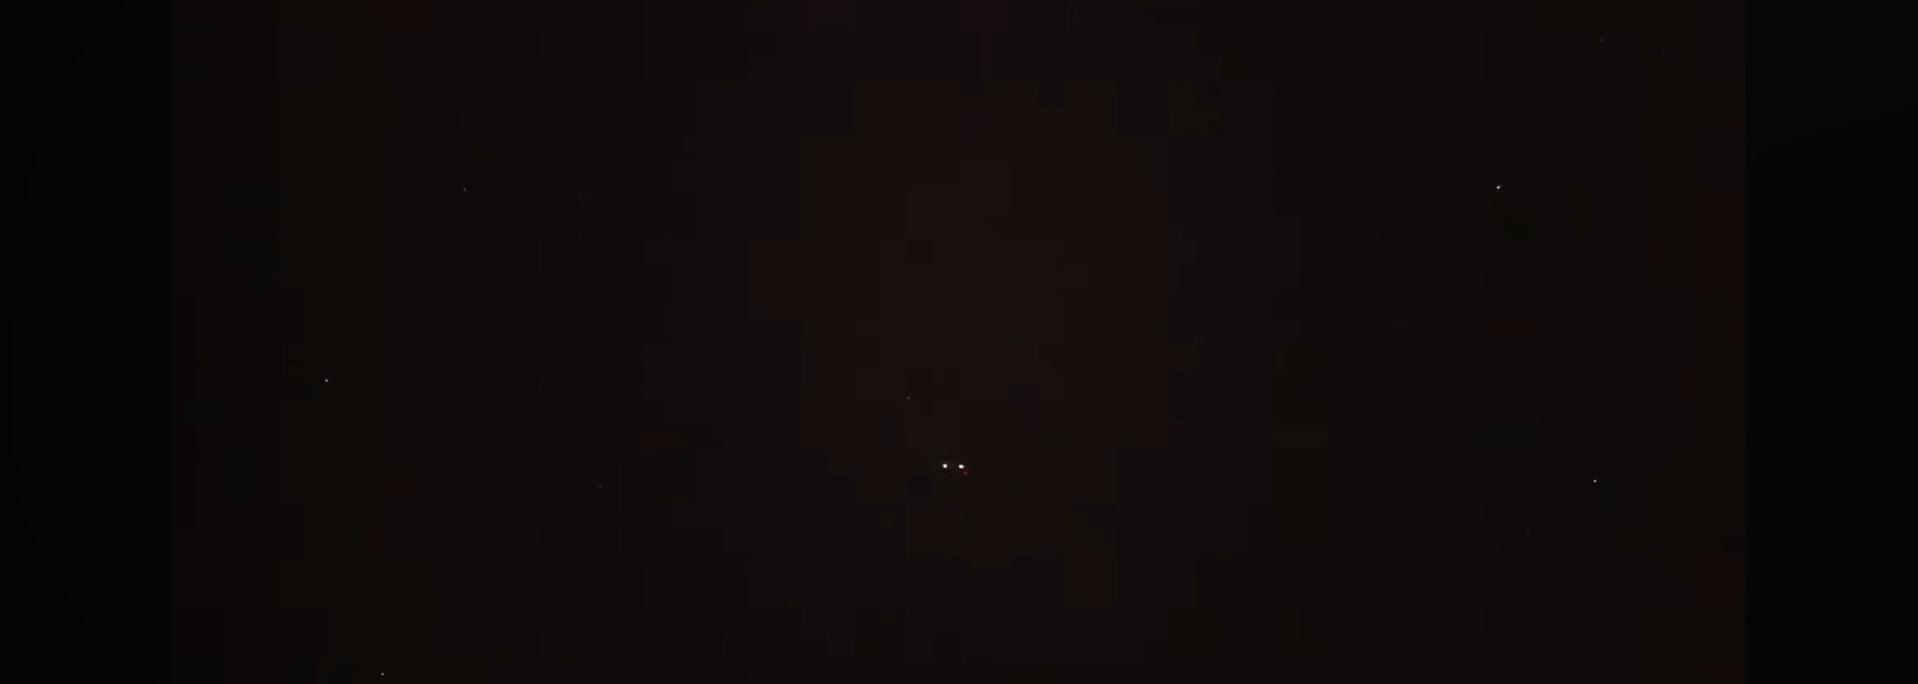Plane: (917, 452, 998, 482)
